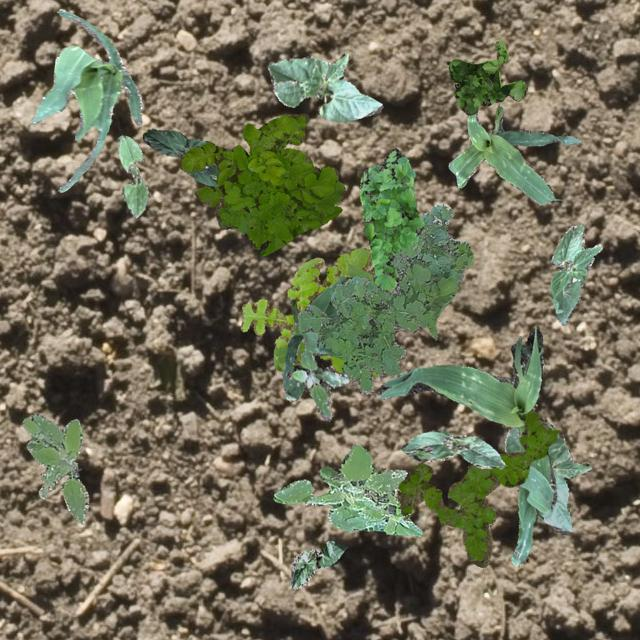crop: (377, 328, 556, 564), (28, 8, 142, 192), (448, 104, 580, 204), (504, 418, 590, 534), (266, 52, 382, 120), (282, 274, 344, 390), (550, 222, 600, 324), (142, 128, 218, 186), (400, 428, 504, 468), (288, 540, 348, 588), (115, 134, 148, 216)
weed: (296, 202, 472, 394), (396, 411, 558, 566), (178, 113, 344, 255), (240, 246, 376, 374), (272, 442, 420, 536), (358, 148, 424, 294), (22, 412, 88, 522), (446, 38, 526, 114), (282, 349, 348, 418)
